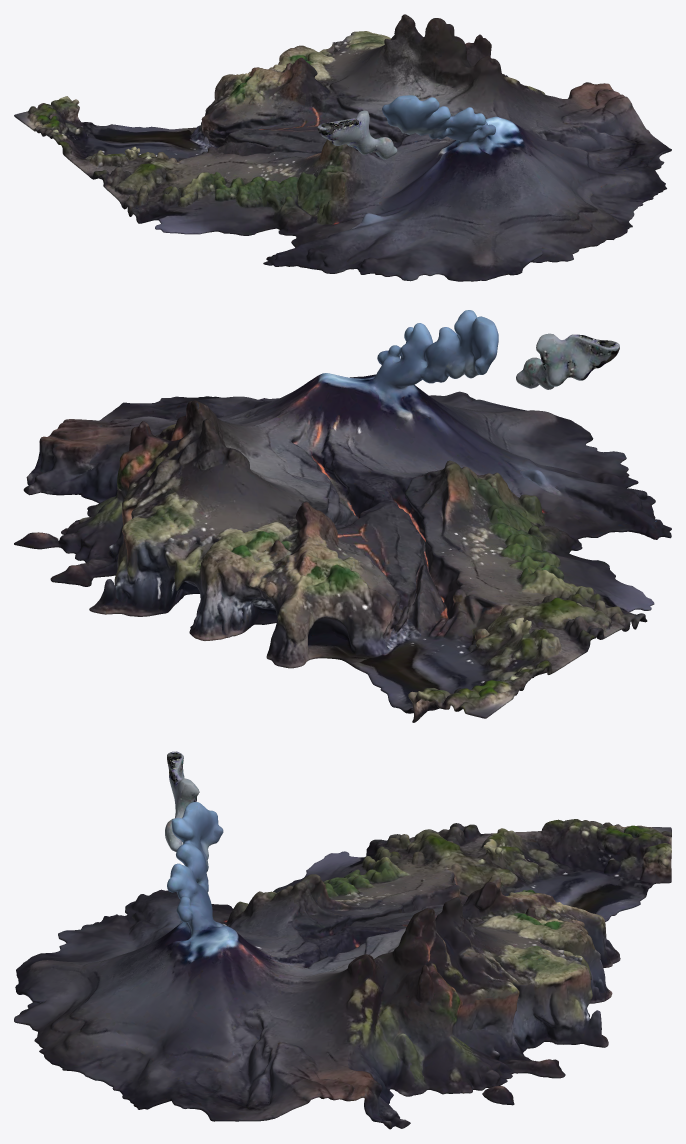
Rendered from Volcanic Island.glb.
3 views of the same model, one above another, from view 1: azimuth 30°, elevation 25°; view 2: azimuth 150°, elevation 25°; view 3: azimuth 270°, elevation 25° (orthographic). The views are drawn at different scales.
Visible parts, largest first — view 1: geometry_0; view 2: geometry_0; view 3: geometry_0.
Part boxes in pixels (x1,y1,x2,y2): geometry_0: (14, 14, 671, 281); geometry_0: (14, 310, 671, 722); geometry_0: (14, 751, 671, 1129).
Size of the model in its own units: 0.9999 by 0.2778 by 0.9951.
1 material, 1 textured.
